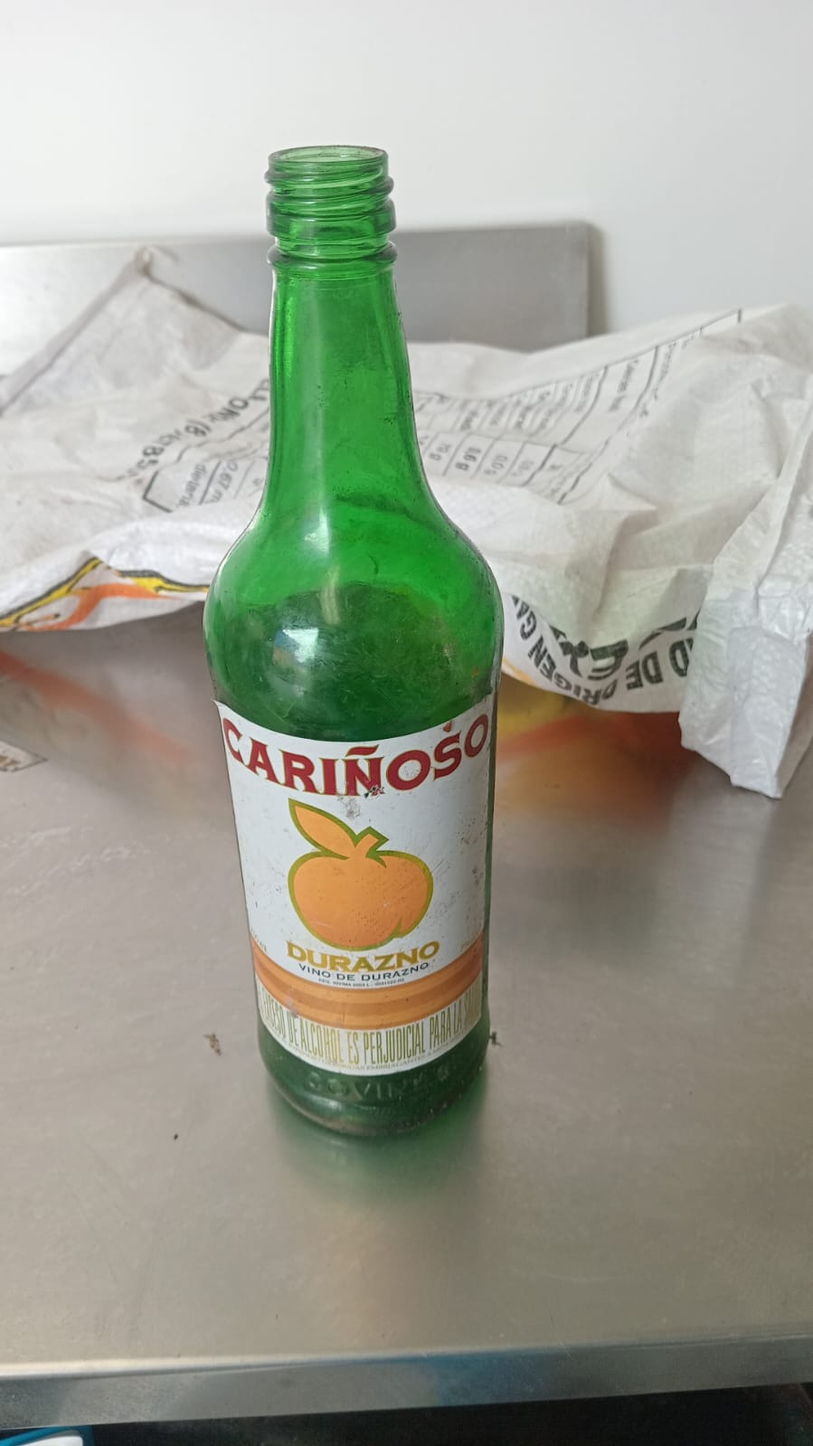Vidrio: (202, 147, 502, 1137)
